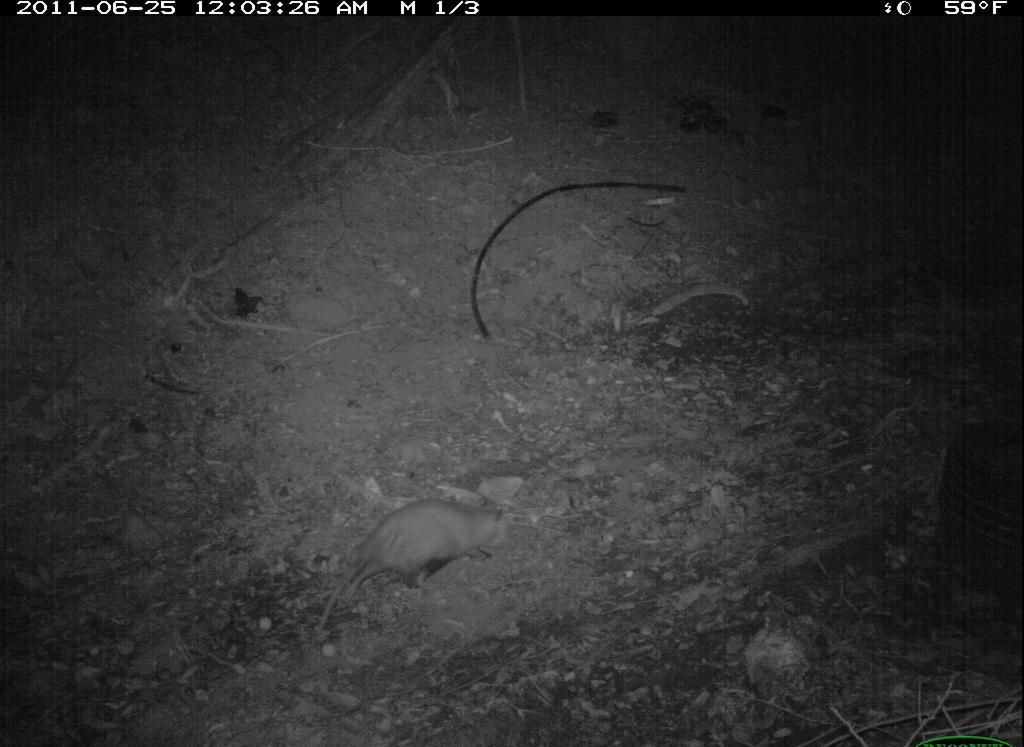opossum: (305, 488, 515, 638)
